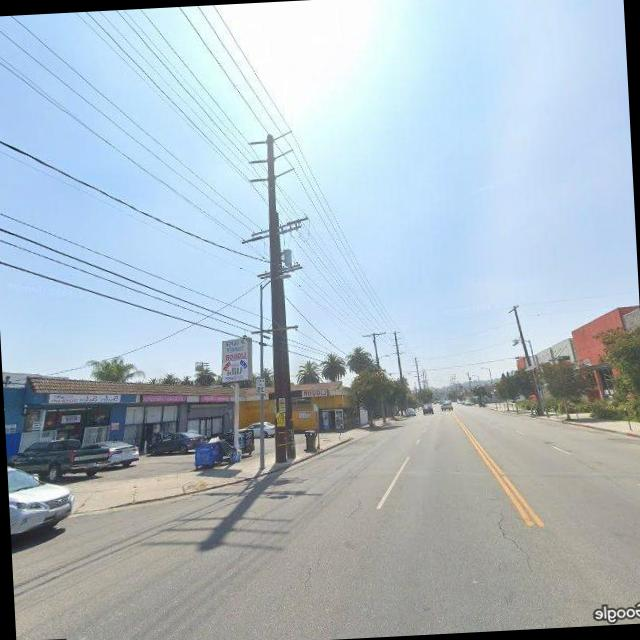pothole: (496, 505, 538, 573), (300, 549, 328, 590)
